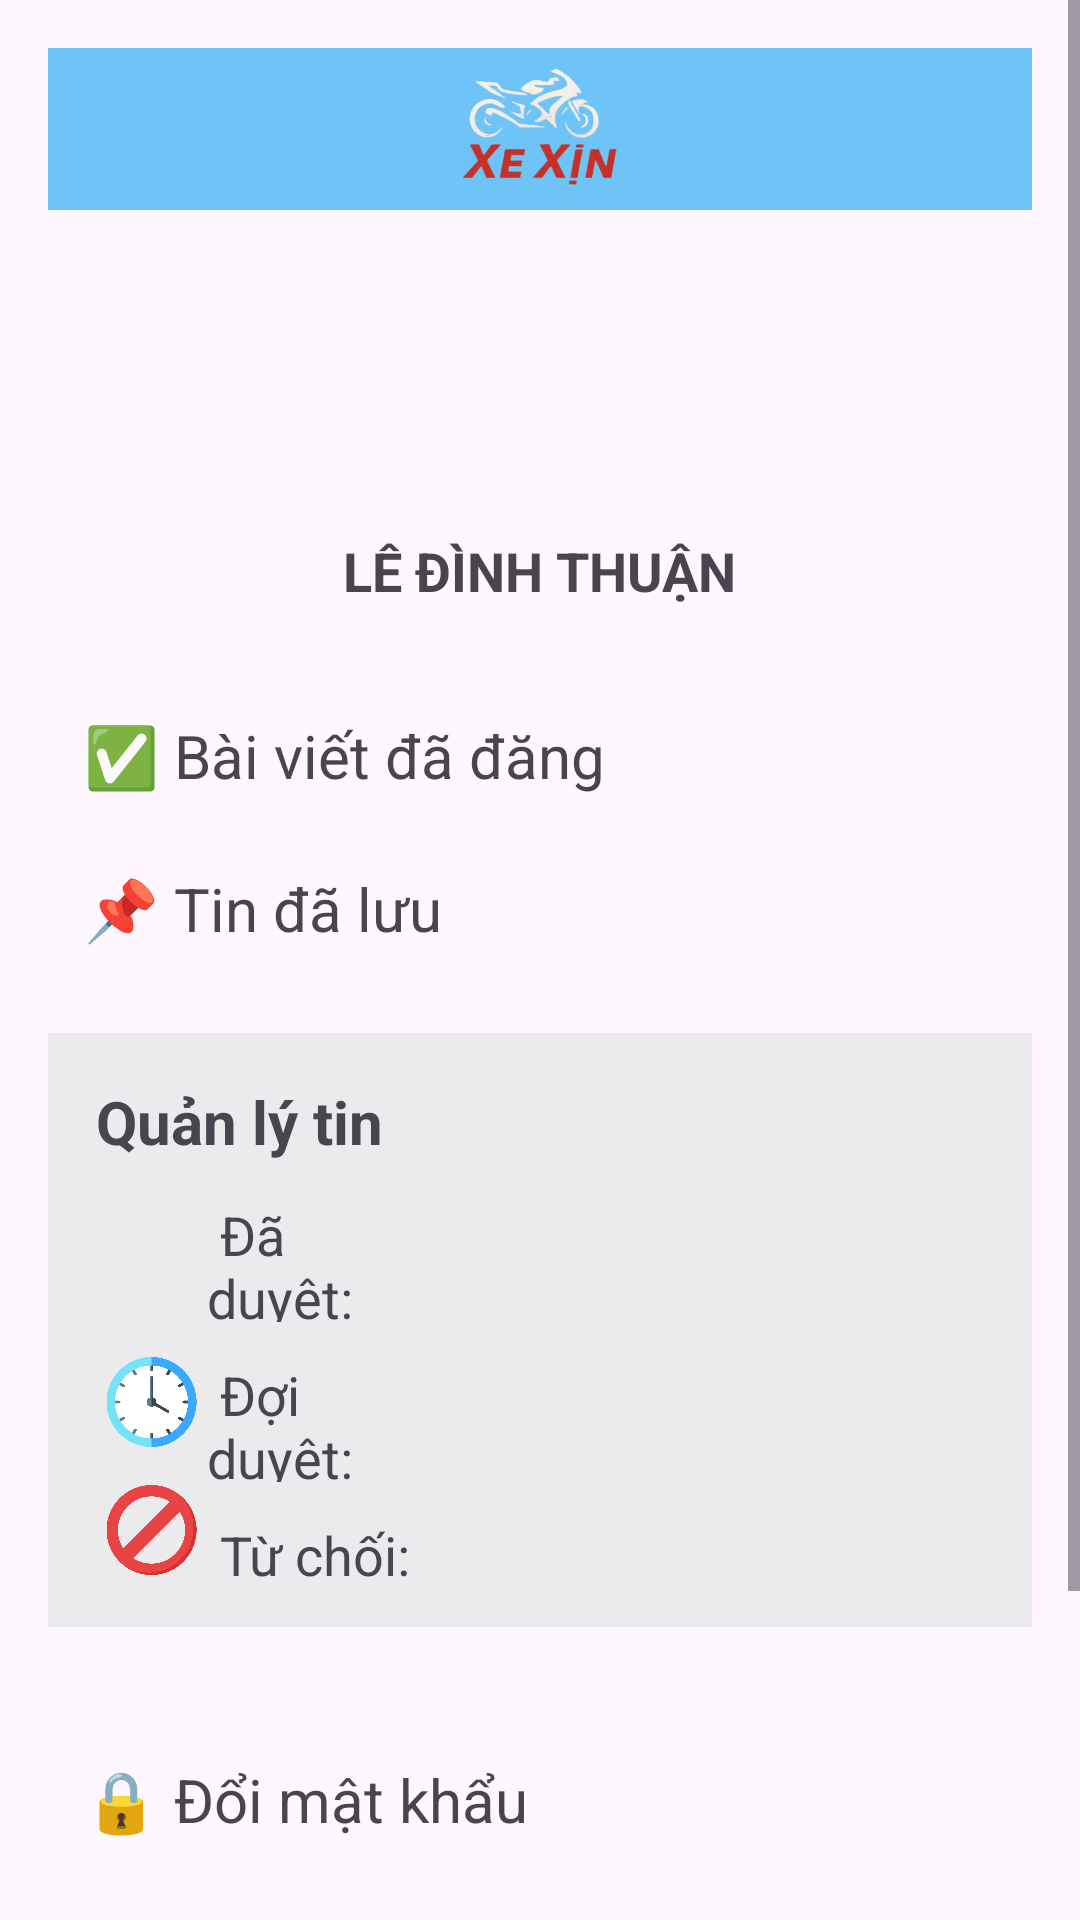

Icon click points for this 1080 × 1920 phone screenshot, format (x,y):
clock: (152,1402)
stop: (152,1530)
